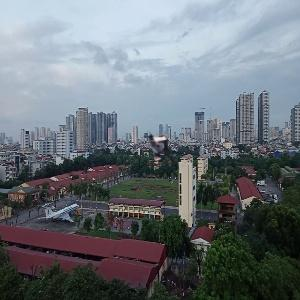drone: (140, 130, 185, 175)
